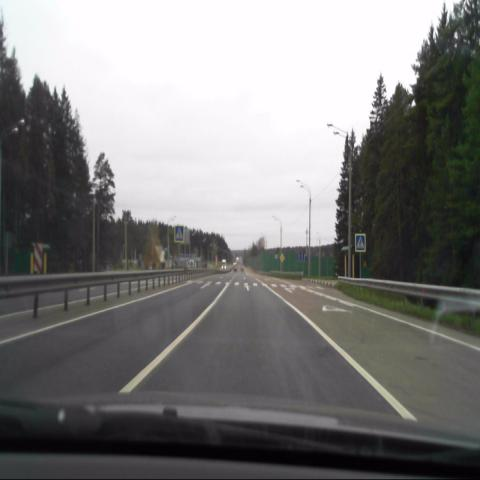5_19_1: (354, 234, 366, 252), (174, 224, 184, 243)
